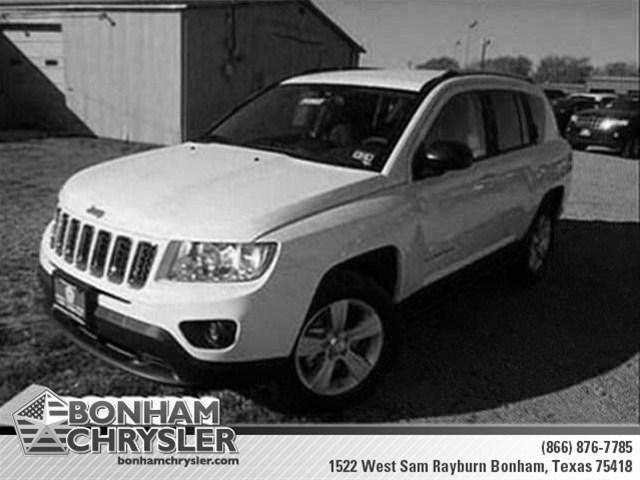car: (36, 62, 581, 405)
